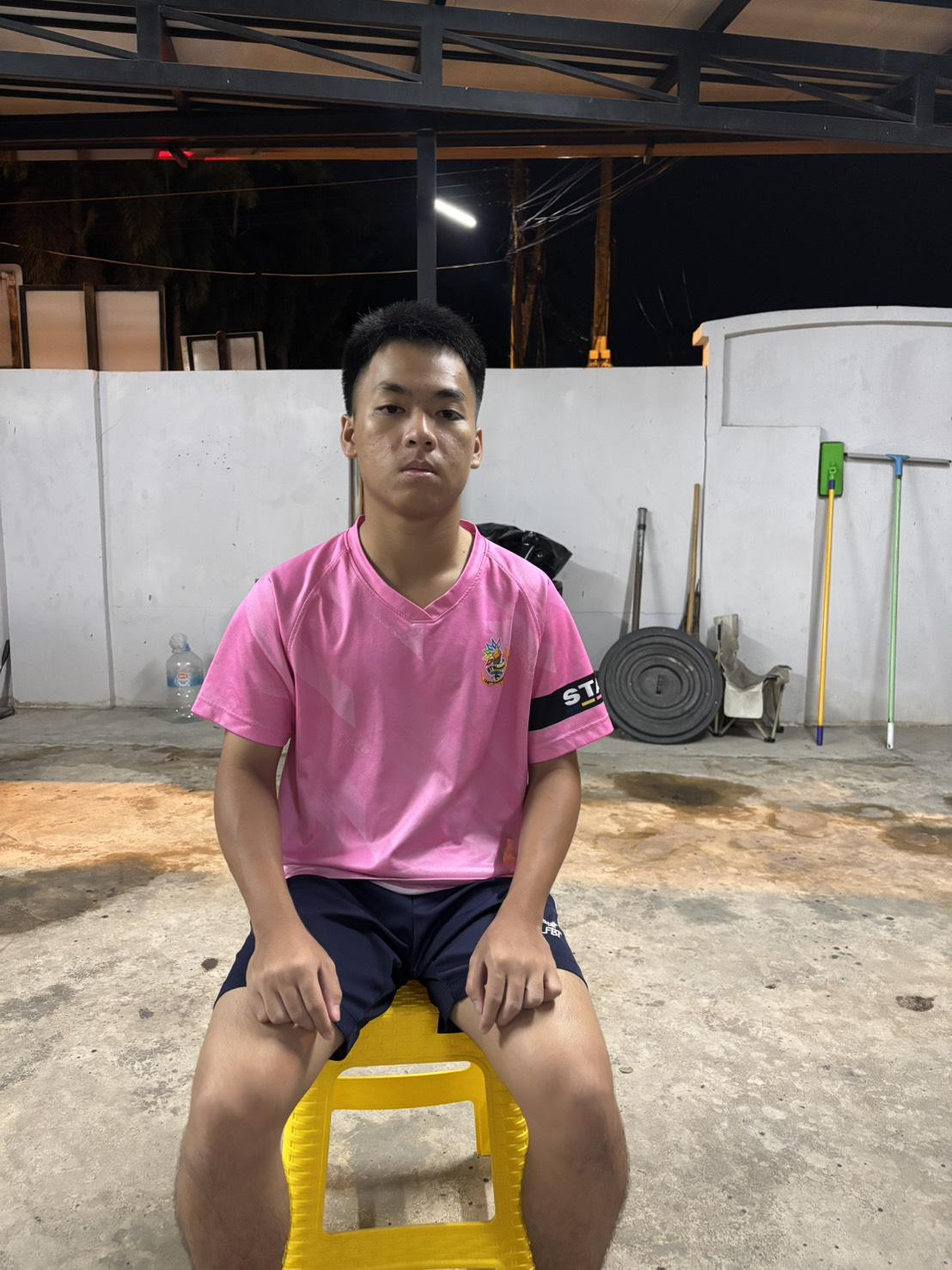GoodPosture: (174, 301, 626, 1269), (196, 302, 610, 889)
